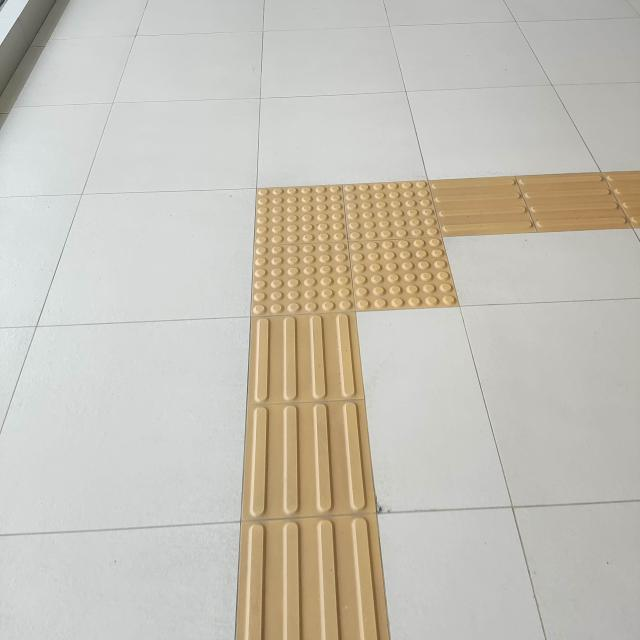kanan: (201, 150, 609, 360)
